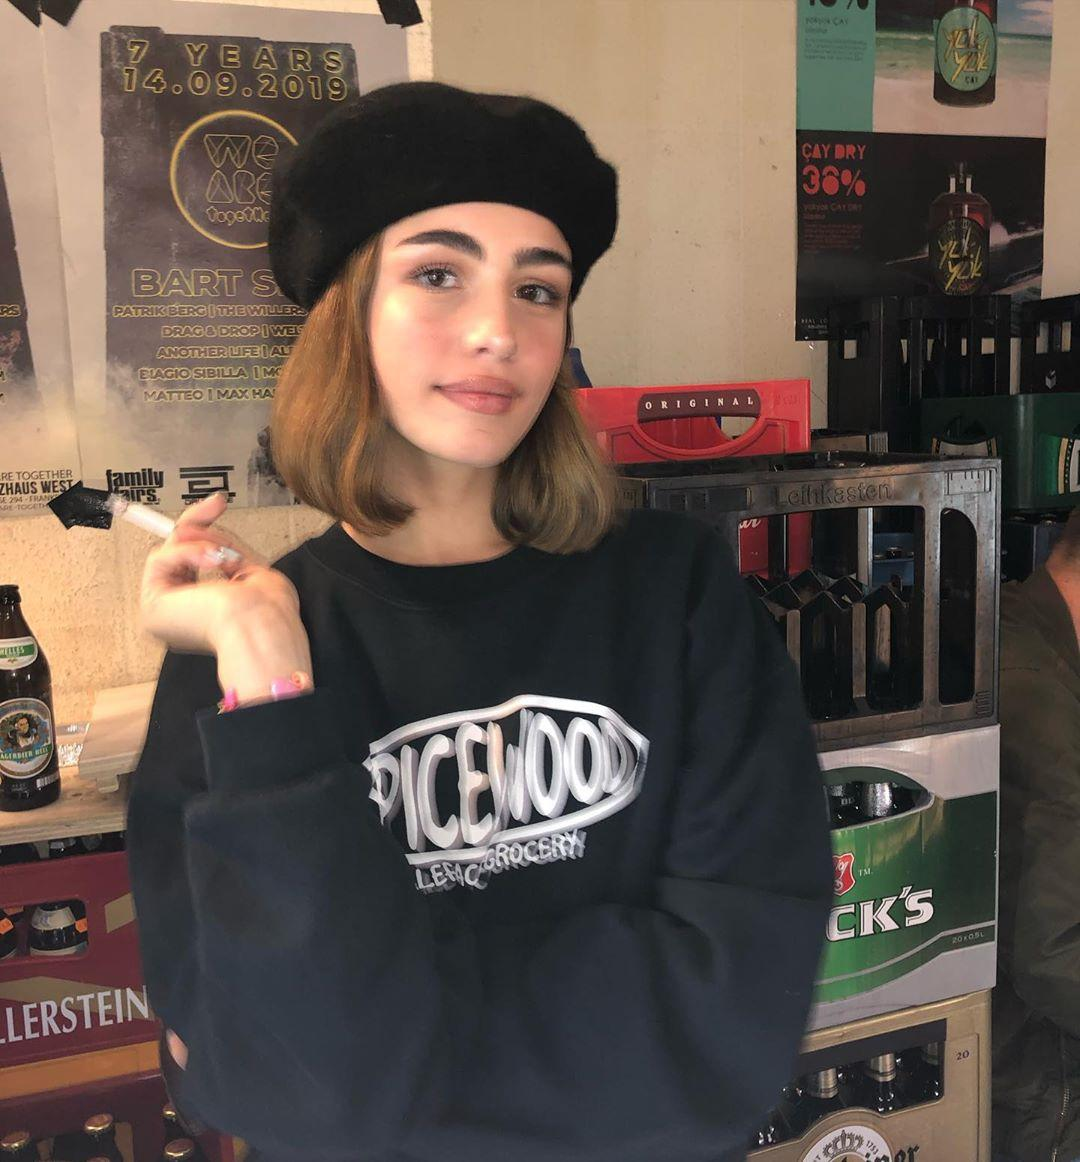cigarette: (103, 492, 241, 571)
